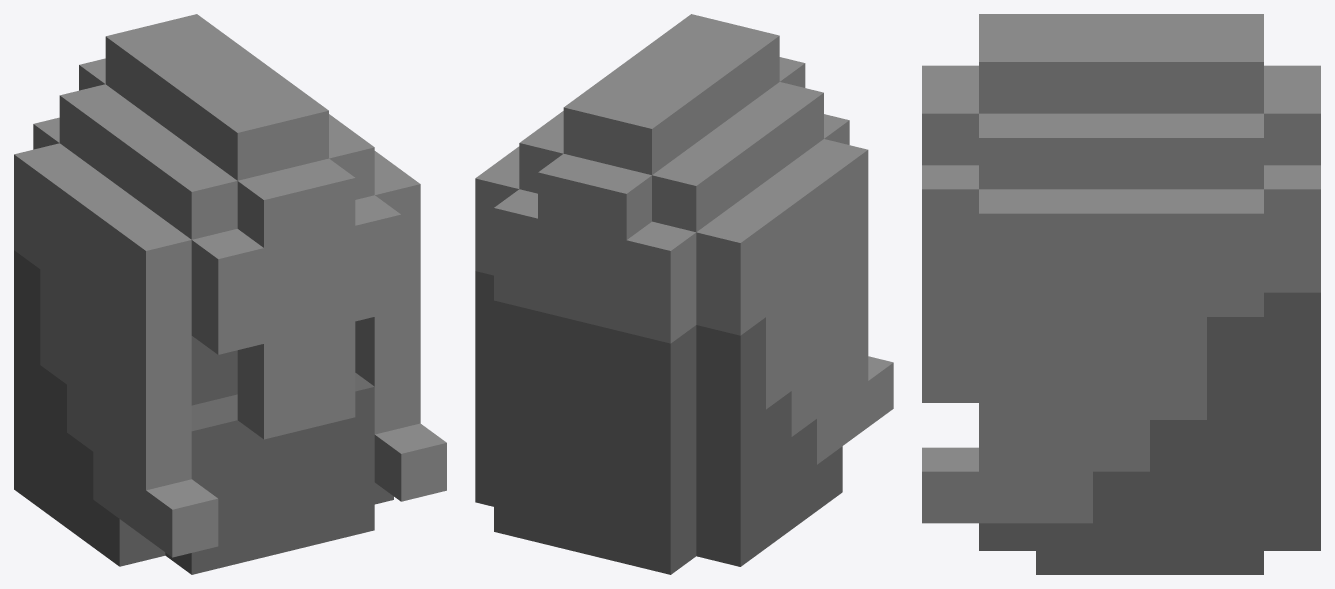
File: characters_export_red-233-helm_hvy_2c_du.obj
3 views of the same model, side by side, from view 1: azimuth 30°, elevation 25°; view 2: azimuth 150°, elevation 25°; view 3: azimuth 270°, elevation 25° (orthographic). The views are drawn at different scales.
Parts seen in each view (by area): view 1: helm_hvy_2c_du; view 2: helm_hvy_2c_du; view 3: helm_hvy_2c_du.
Boxes of the visible parts, box(x1,y1,x2,y2) form: helm_hvy_2c_du: box(14, 14, 446, 574); helm_hvy_2c_du: box(475, 14, 893, 574); helm_hvy_2c_du: box(922, 14, 1320, 574).
Bounding box in the file's own units: 0.6 × 0.9 × 0.7.
Materials: 1 (1 with a texture image).
